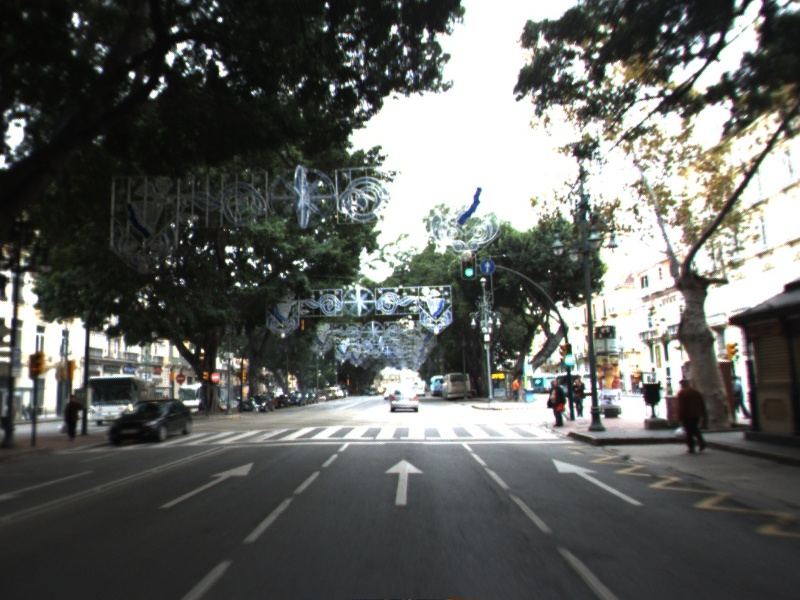STRAIGHT: (155, 459, 257, 511), (549, 456, 648, 509), (382, 457, 427, 507)
